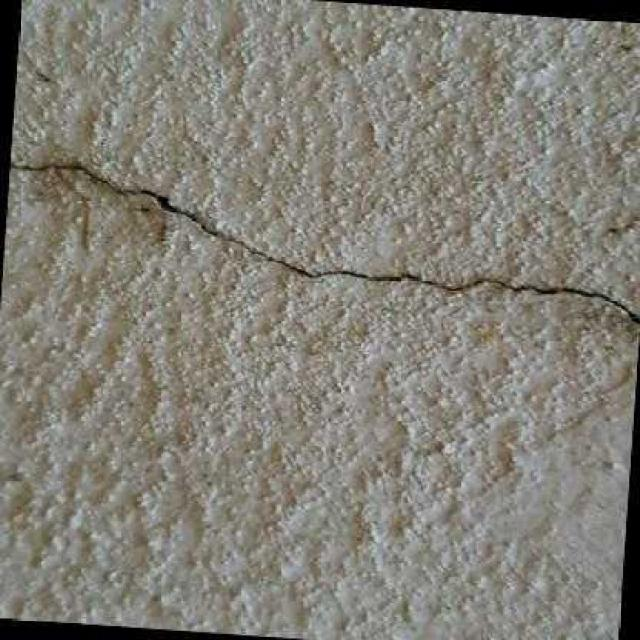D00: (10, 163, 640, 324)
